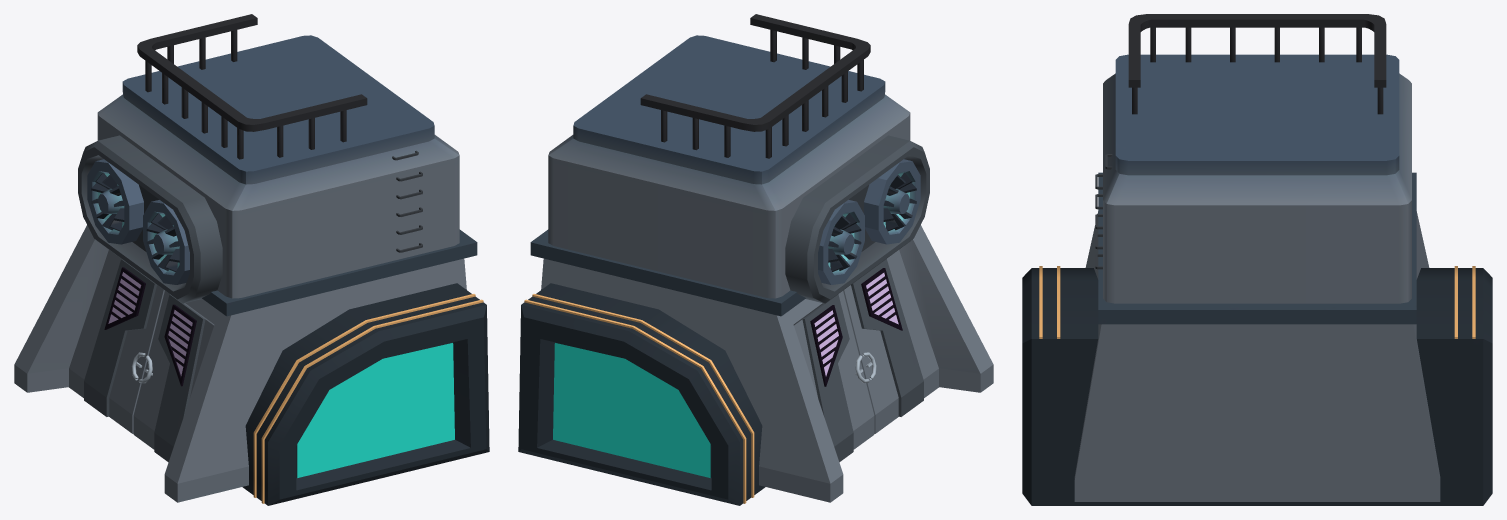
Rendered from Pod_Exit.fbx.
3 views of the same model, side by side, from view 1: azimuth 30°, elevation 25°; view 2: azimuth 150°, elevation 25°; view 3: azimuth 270°, elevation 25° (orthographic). The views are drawn at different scales.
Parts seen in each view (by area): view 1: Pod_Exit; view 2: Pod_Exit; view 3: Pod_Exit.
Boxes of the visible parts, x1=… form: Pod_Exit: x1=14, y1=14, x2=489, y2=505; Pod_Exit: x1=518, y1=14, x2=993, y2=505; Pod_Exit: x1=1022, y1=14, x2=1492, y2=505.
Bounding box in the file's own units: 18.46 × 19.4 × 21.61.
Materials: 2 (2 with a texture image).
